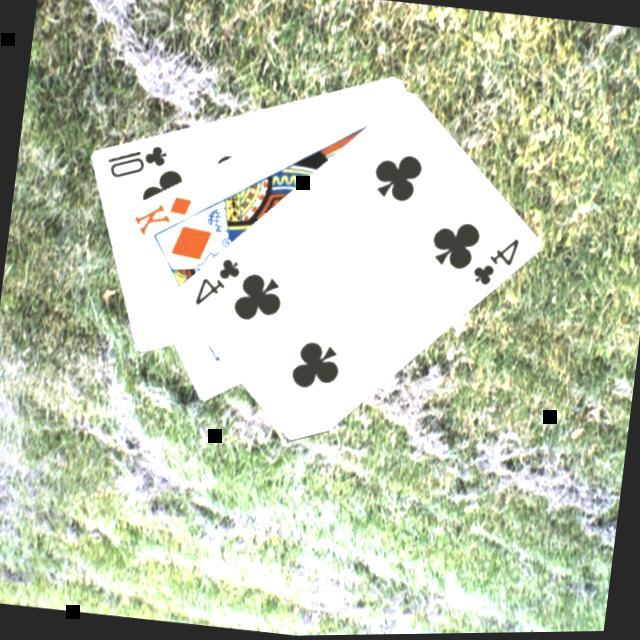10C: (100, 137, 170, 189)
4C: (466, 232, 520, 295), (189, 253, 243, 315)
KD: (126, 188, 194, 246)
